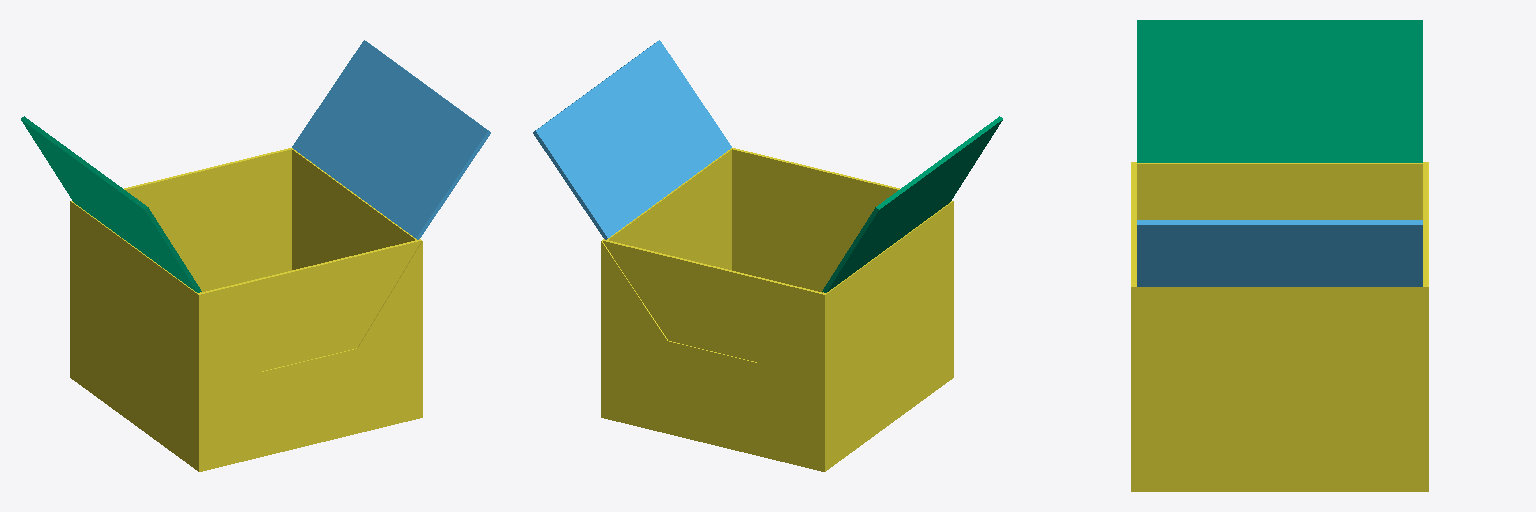
robot.urdf — partnet_15b5c54a8ddc84353a5acb1c5cbd19ff:
<?xml version="1.0" ?>
<robot name="partnet_15b5c54a8ddc84353a5acb1c5cbd19ff">
	<link name="base"/>
	<link name="link_0">
		<visual name="rotation_lid-3">
			<origin xyz="-0.11440558821760938 -0.2886859015583081 0.42"/>
			<geometry>
				<mesh filename="textured_objs/link_0.obj"/>
			</geometry>
		</visual>
		<collision>
			<origin xyz="-0.11440558821760938 -0.2886859015583081 0.42"/>
			<geometry>
				<mesh filename="textured_objs/link_0_convex.obj"/>
			</geometry>
		</collision>
	</link>
	<link name="link_1">
		<visual name="rotation_lid-4">
			<origin xyz="-0.427809 -0.288 -0.43565743326573825"/>
			<geometry>
				<mesh filename="textured_objs/link_1.obj"/>
			</geometry>
		</visual>
		<collision>
			<origin xyz="-0.427809 -0.288 -0.43565743326573825"/>
			<geometry>
				<mesh filename="textured_objs/link_1_convex.obj"/>
			</geometry>
		</collision>
	</link>
	<link name="link_2">
		<visual name="base_body-6">
			<origin xyz="0 0 0"/>
			<geometry>
				<mesh filename="textured_objs/link_2.obj"/>
			</geometry>
		</visual>
		<collision>
			<origin xyz="0 0 0"/>
			<geometry>
				<mesh filename="textured_objs/link_2_convex.obj"/>
			</geometry>
		</collision>
	</link>
	<joint name="joint_0" type="revolute">
		<origin xyz="0.11440558821760938 0.2886859015583081 -0.42"/>
		<axis xyz="-0.644123314889653 0 0"/>
		<child link="link_0"/>
		<parent link="link_2"/>
		<limit lower="-2.2689280275926285" upper="0.5235987755982988"/>
		<dynamics damping="0.0002" friction="0.01"/>
	</joint>
	<joint name="joint_1" type="revolute">
		<origin xyz="0.427809 0.288 0.43565743326573825"/>
		<axis xyz="1 0 0"/>
		<child link="link_1"/>
		<parent link="link_2"/>
		<limit lower="-2.0943951023931953" upper="0.6981317007977318"/>
		<dynamics damping="0.0002" friction="0.01"/>
	</joint>
	<joint name="joint_2" type="fixed">
		<origin rpy="1.570796326794897 0 -1.570796326794897" xyz="0 0 0"/>
		<child link="link_2"/>
		<parent link="base"/>
		<dynamics damping="0.0002" friction="0.01"/>
	</joint>
</robot>

--- Render facts (derived) ---
The picture shows the robot from 3 angles, left to right: view 1: azimuth 30°, elevation 25°; view 2: azimuth 150°, elevation 25°; view 3: azimuth 270°, elevation 25°; orthographic projection.
Robot: partnet_15b5c54a8ddc84353a5acb1c5cbd19ff — 4 links, 3 joints (2 revolute, 1 fixed); root link base; default pose: all joints at 0.
Visible links, largest first — view 1: link_2, link_0, link_1; view 2: link_2, link_0, link_1; view 3: link_2, link_1, link_0.
Link boxes in pixels (left/top/right/bottom): link_2: left=70, top=148, right=422, bottom=471; link_0: left=292, top=40, right=490, bottom=239; link_1: left=21, top=116, right=201, bottom=292; link_2: left=601, top=148, right=953, bottom=471; link_0: left=533, top=40, right=731, bottom=239; link_1: left=822, top=116, right=1002, bottom=292; link_2: left=1131, top=162, right=1428, bottom=491; link_1: left=1137, top=20, right=1422, bottom=162; link_0: left=1137, top=220, right=1422, bottom=286.
Size in the robot's own frame: 1.36 by 0.8742 by 1.03 metres.
3 mesh visuals loaded from 3 distinct referenced files (3 OBJ).